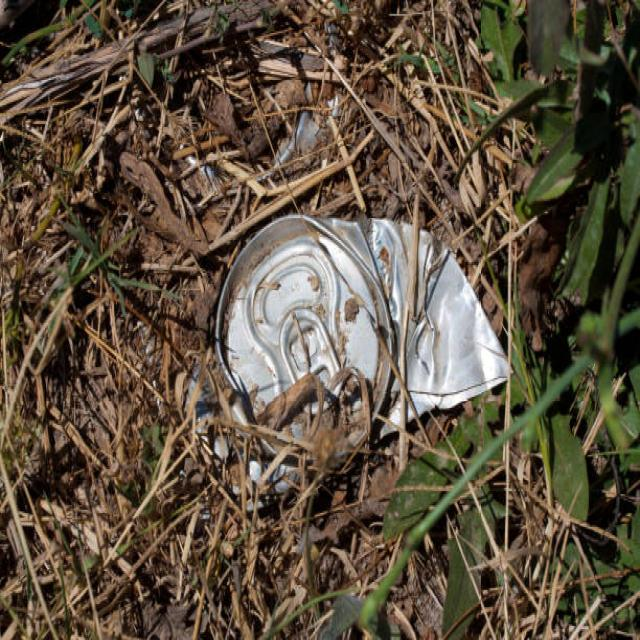metal: (203, 242, 509, 440)
